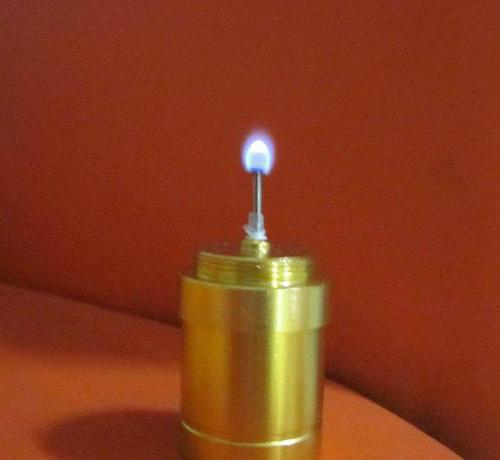fire: (234, 130, 276, 183)
